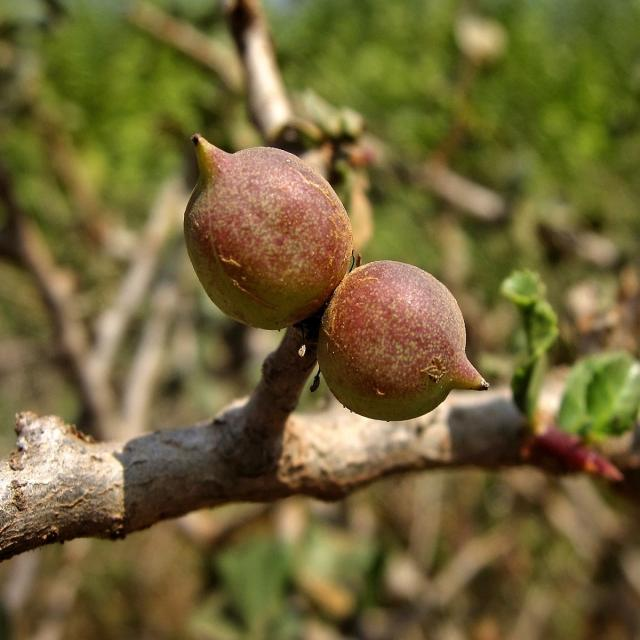Gugal: (99, 69, 640, 580)
